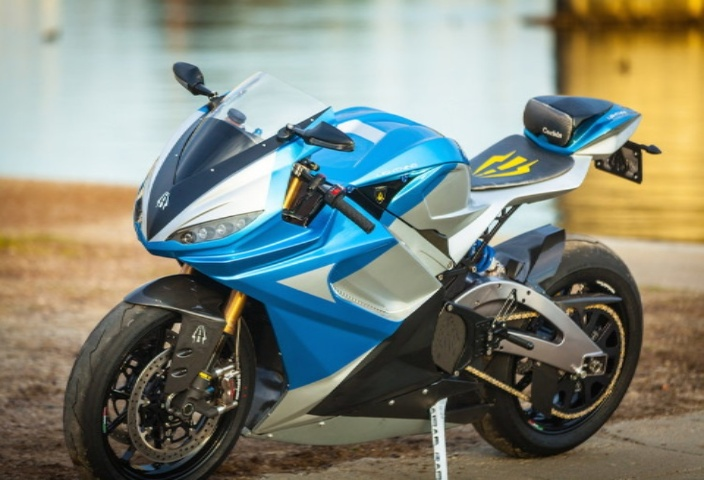motorcycle: (24, 45, 661, 480)
